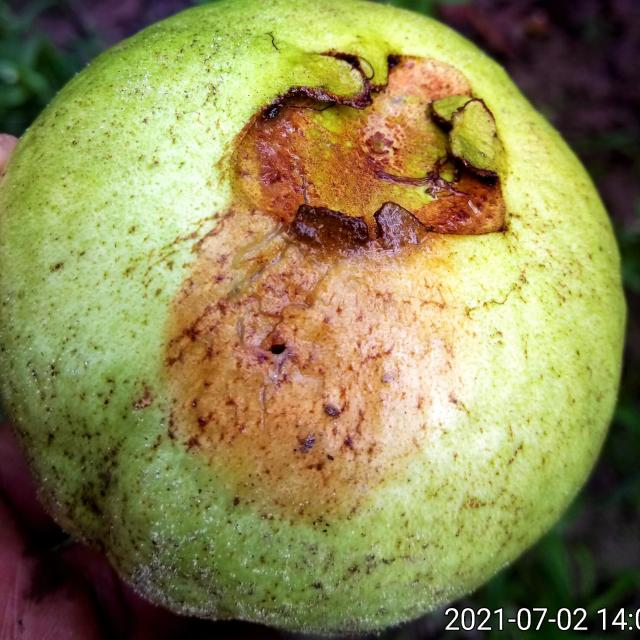Styler and Root: (0, 3, 625, 632)
